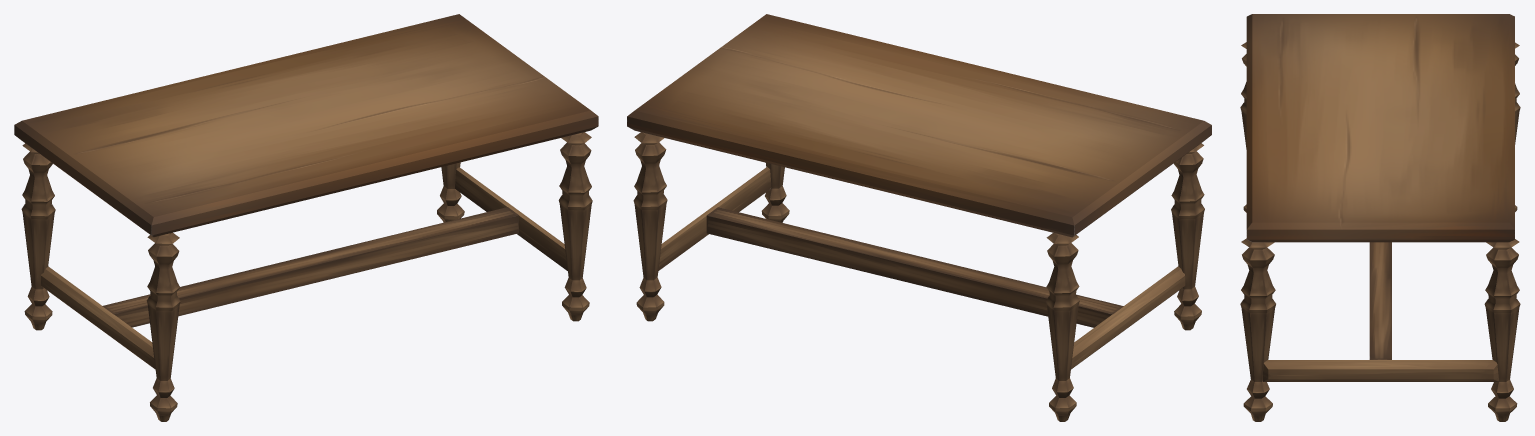
Rendered from Table One.fbx.
3 views of the same model, side by side, from view 1: azimuth 30°, elevation 25°; view 2: azimuth 150°, elevation 25°; view 3: azimuth 270°, elevation 25° (orthographic). The views are drawn at different scales.
Parts seen in each view (by area): view 1: Table_1, Balk_Midden, Poot_3, Poot_2, Poot_4, Balk_2, Balk_1, Poot_1; view 2: Table_1, Balk_Midden, Poot_4, Poot_1, Poot_3, Balk_2, Balk_1, Poot_2; view 3: Table_1, Balk_1, Poot_2, Poot_1, Balk_Midden, Poot_3.
Part boxes in pixels (bbox=[...]): Table_1: bbox=[14, 14, 598, 236]; Balk_Midden: bbox=[102, 207, 518, 327]; Poot_3: bbox=[146, 232, 180, 421]; Poot_2: bbox=[558, 132, 592, 321]; Poot_4: bbox=[21, 143, 55, 330]; Balk_2: bbox=[41, 266, 155, 369]; Balk_1: bbox=[455, 167, 567, 270]; Poot_1: bbox=[437, 162, 464, 222]; Table_1: bbox=[627, 14, 1211, 237]; Balk_Midden: bbox=[706, 207, 1123, 327]; Poot_4: bbox=[1046, 233, 1079, 421]; Poot_1: bbox=[633, 132, 667, 321]; Poot_3: bbox=[1171, 143, 1204, 330]; Balk_2: bbox=[1071, 266, 1185, 369]; Balk_1: bbox=[658, 167, 771, 270]; Poot_2: bbox=[761, 162, 789, 222]; Table_1: bbox=[1246, 14, 1514, 242]; Balk_1: bbox=[1263, 360, 1498, 381]; Poot_2: bbox=[1240, 238, 1275, 421]; Poot_1: bbox=[1484, 239, 1520, 421]; Balk_Midden: bbox=[1369, 242, 1391, 359]; Poot_3: bbox=[1240, 42, 1246, 212].
Size of the model in its own units: 22.6 by 10.06 by 12.57.
